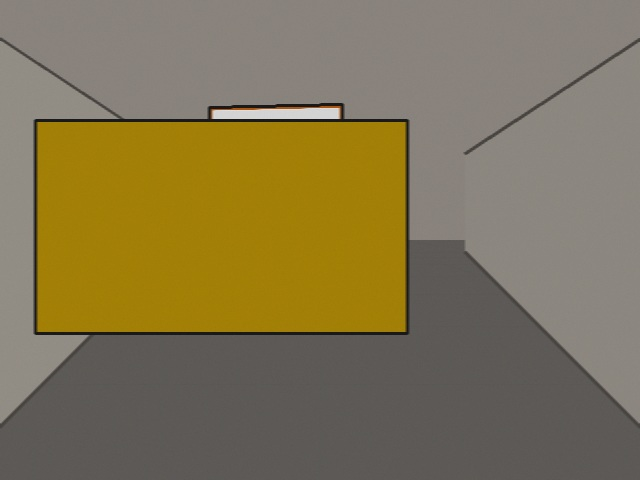directional_sign: (209, 104, 342, 173)
forklift: (35, 0, 407, 333)
